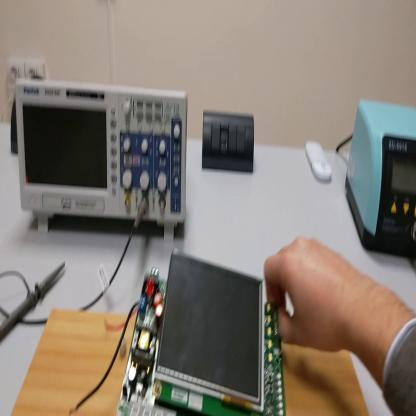hand: (265, 235, 366, 361)
low voltage board: (75, 250, 284, 412)
oscilloscope: (15, 77, 186, 244)
oscilloscope probe tip: (1, 261, 67, 342)
socket: (10, 92, 18, 155)
welder station: (345, 101, 416, 257)
working area: (12, 316, 368, 416)
